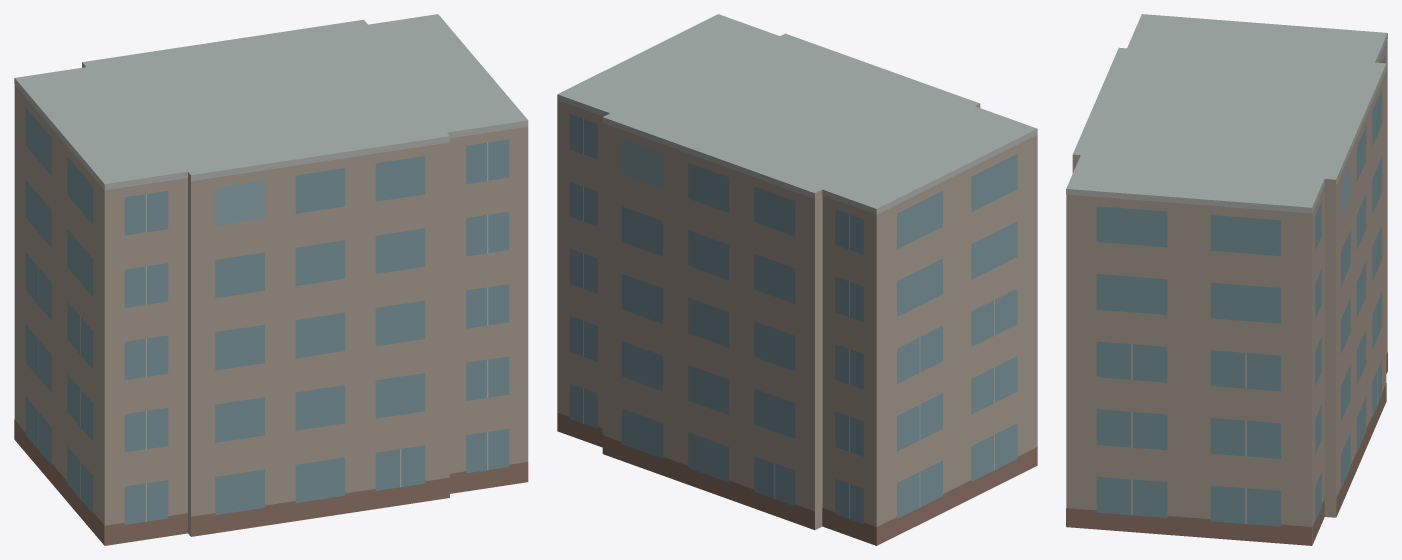
File: survey-upis-32948331.glb
The picture shows the model from 3 angles, left to right: view 1: azimuth 30°, elevation 25°; view 2: azimuth 150°, elevation 25°; view 3: azimuth 270°, elevation 25°; orthographic projection. The views are drawn at different scales.
Parts seen in each view (by area): view 1: survey-upis-32948331.tmp; view 2: survey-upis-32948331.tmp; view 3: survey-upis-32948331.tmp.
Part boxes in pixels (box(x1,y1,x2,y2)): survey-upis-32948331.tmp: box(14, 14, 528, 545); survey-upis-32948331.tmp: box(557, 14, 1037, 545); survey-upis-32948331.tmp: box(1066, 14, 1387, 545).
Size of the model in its own units: 17.58 by 14.3 by 12.34.
